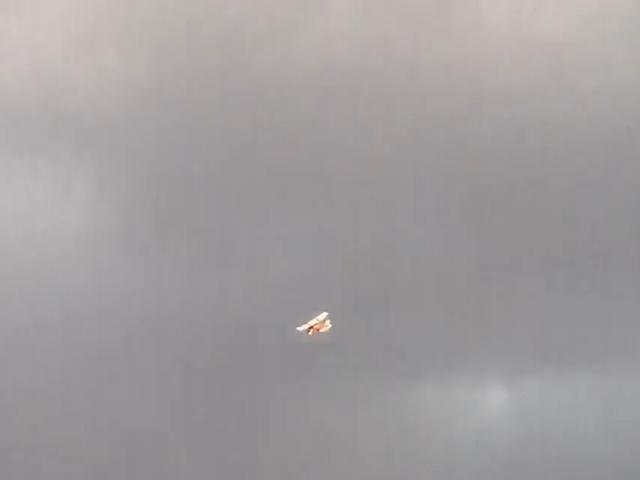plane: (294, 310, 334, 335)
